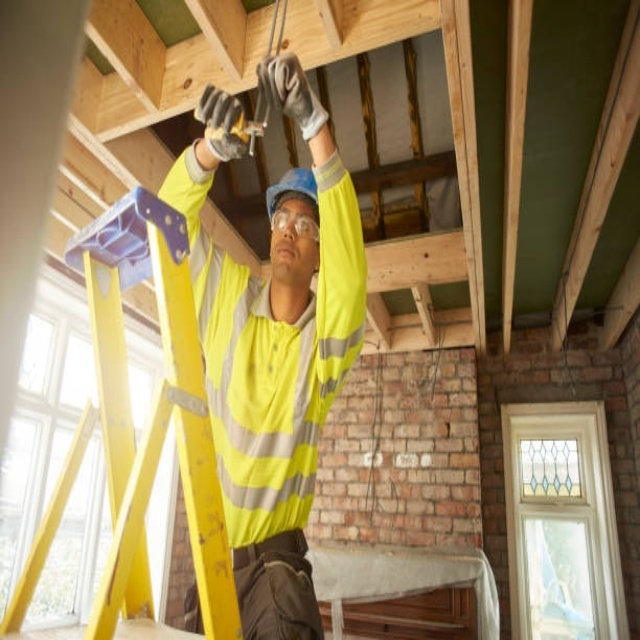Gafas: (270, 209, 319, 242)
Guantes: (262, 52, 327, 141), (194, 83, 254, 162)
Sin_mascara: (278, 246, 295, 258)
